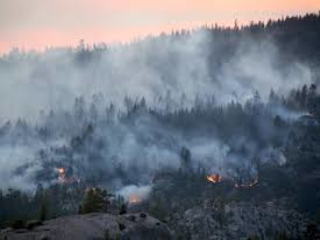fire: (205, 172, 220, 186), (53, 166, 68, 178), (129, 198, 140, 208)
smoke: (10, 33, 311, 167)
